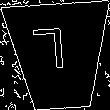L_S: (40, 30, 77, 82)
